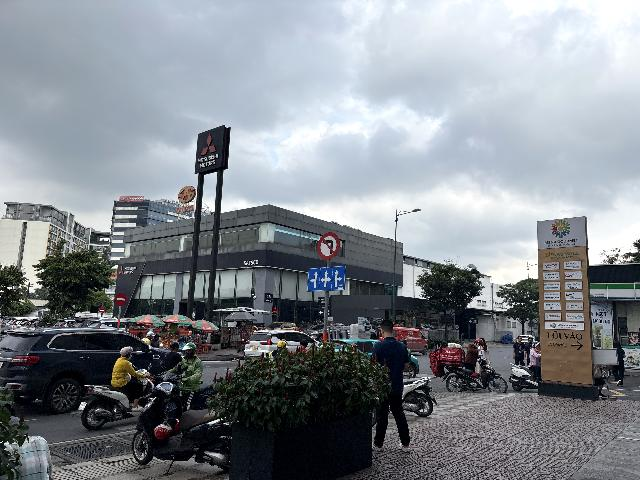cam-di-nguoc-chieu: (115, 292, 127, 306)
cam-re-trai: (317, 232, 340, 260)
